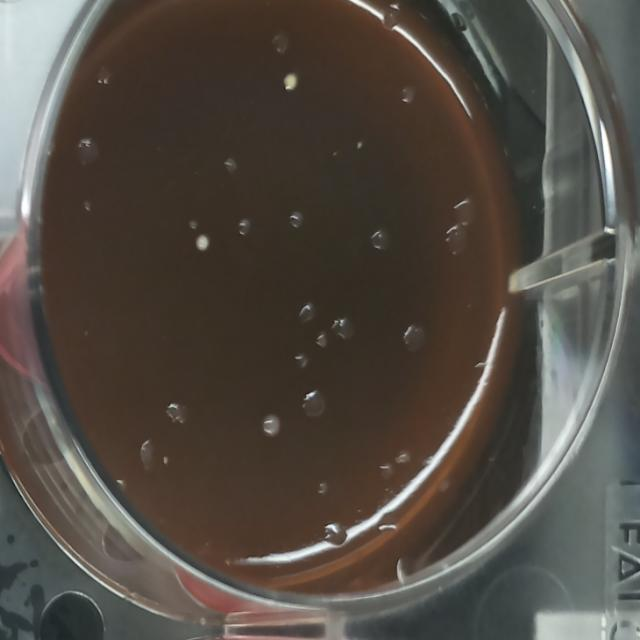Staphylococcus: (281, 71, 300, 94), (194, 232, 212, 255)
